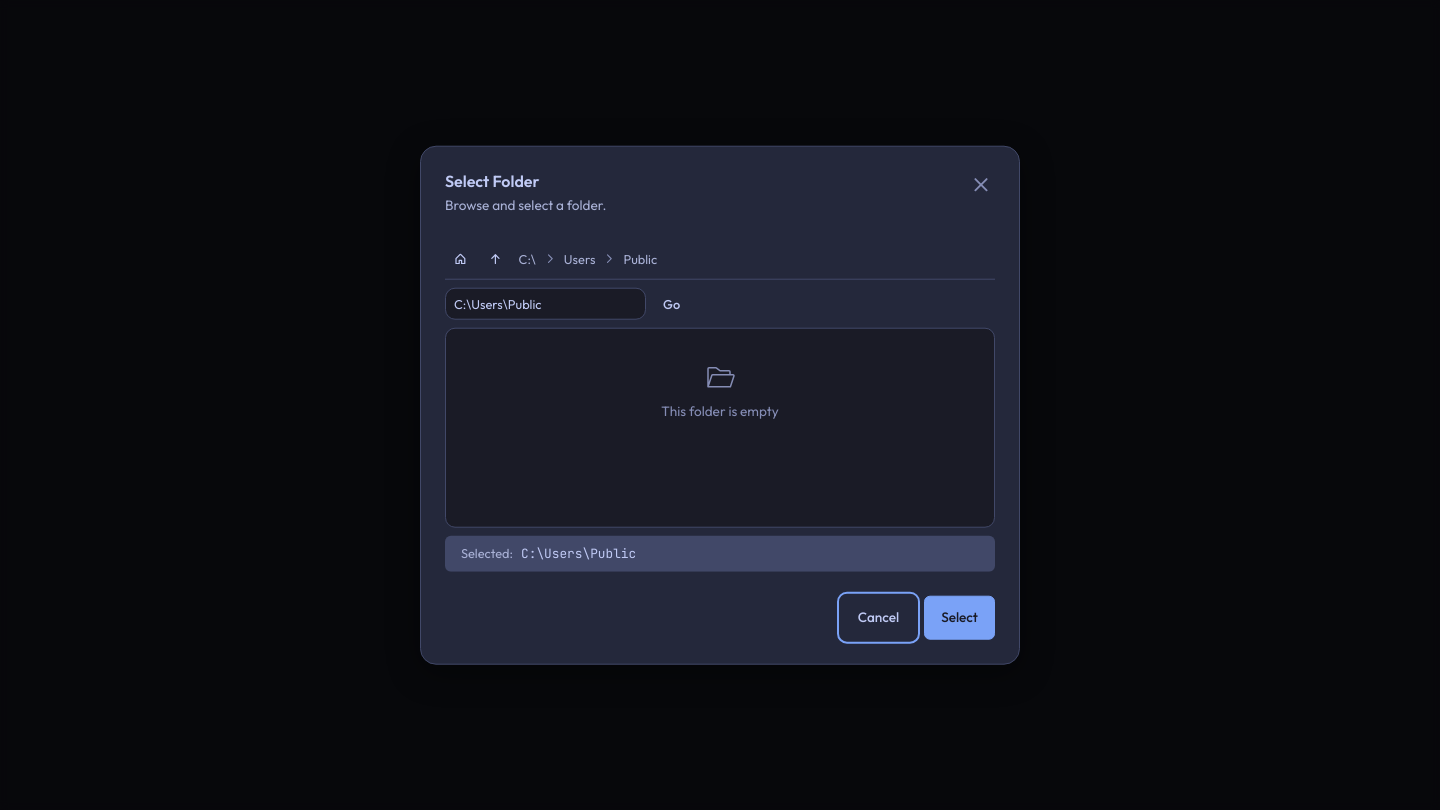
it: FileBrowser › navigates Windows drive paths by segment without leaving the drive
Expected: the button "C:\\" is shown, [515,246,540,273]
Expected: the button "Users" is shown, [560,246,599,273]
What coordinates should you click on to do the following:
click the button named "go to parent"
I would click on:
 (495, 259)
Its box is [480,243,511,275].
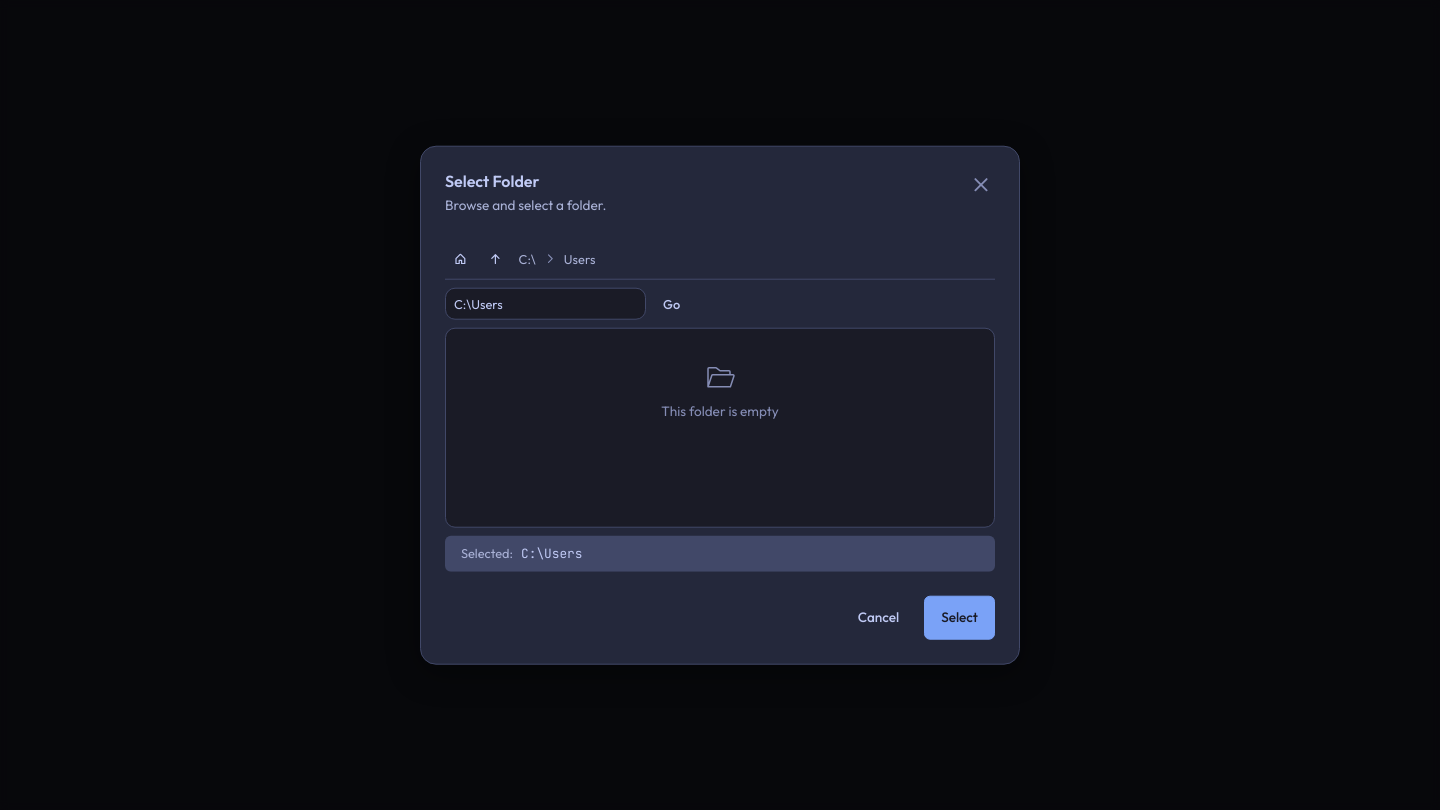
Now the field with placeholder "Enter path manually..." holds "C:\\Users", box [446,290,645,318]
What coordinates should you click on to do the following:
click the button named "go to root"
I would click on:
 (460, 259)
Its box is [445,243,476,275].
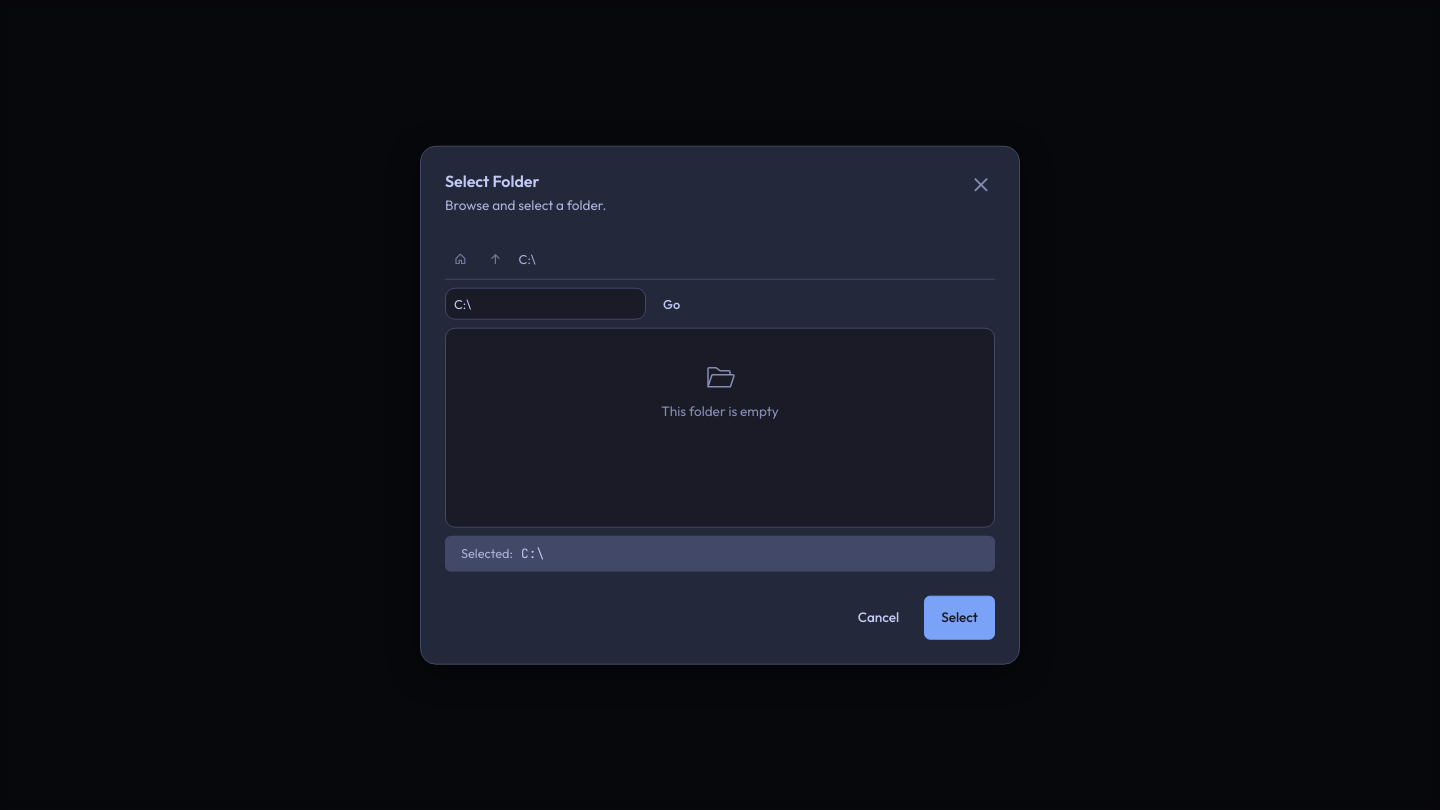
Expected: the button named "go to parent" is disabled, [480,243,511,275]
Now the field with placeholder "Enter path manually..." holds "C:\\", box [446,290,645,318]
Now the button named "go to root" is disabled, box [445,243,476,275]
